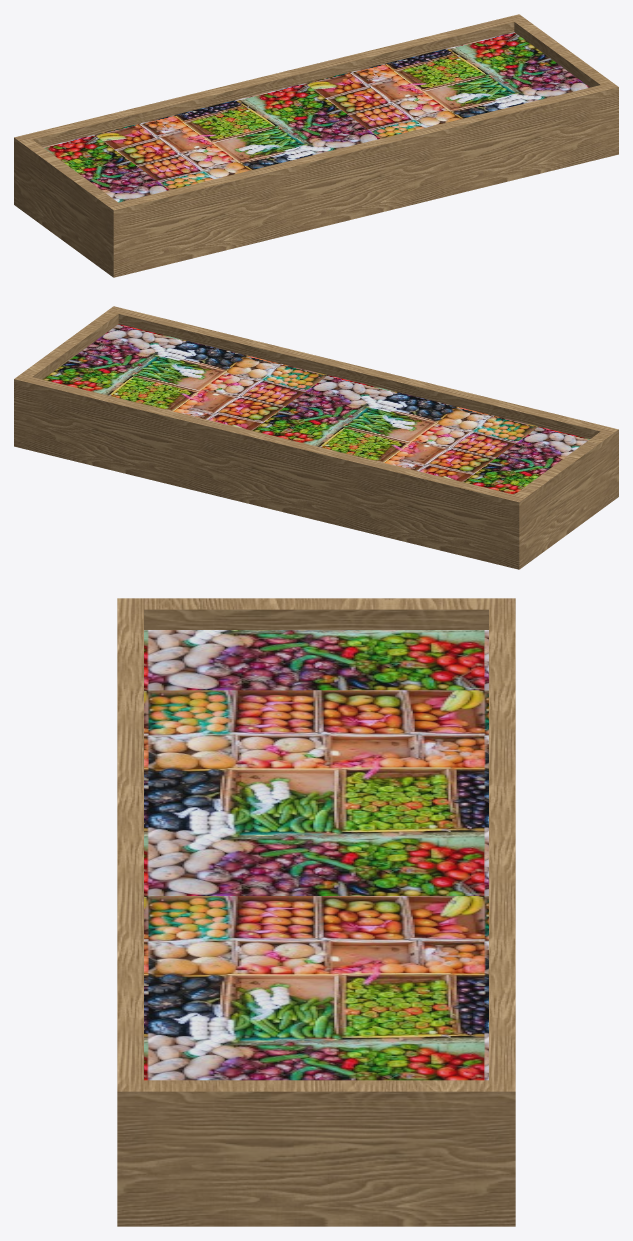
File: large_vegetable_stand.glb
3 renders of one model, top to bottom at view 1: azimuth 30°, elevation 25°; view 2: azimuth 150°, elevation 25°; view 3: azimuth 270°, elevation 25°, orthographic. The views are drawn at different scales.
Visible parts, largest first — view 1: Librero.024; view 2: Librero.024; view 3: Librero.024.
Part boxes in pixels (x1,y1,x2,y2): Librero.024: (14,14,618,277); Librero.024: (14,306,618,569); Librero.024: (117,598,515,1226).
Size of the model in its own units: 8.37 by 1.07 by 2.86.
2 materials, 2 textured.
